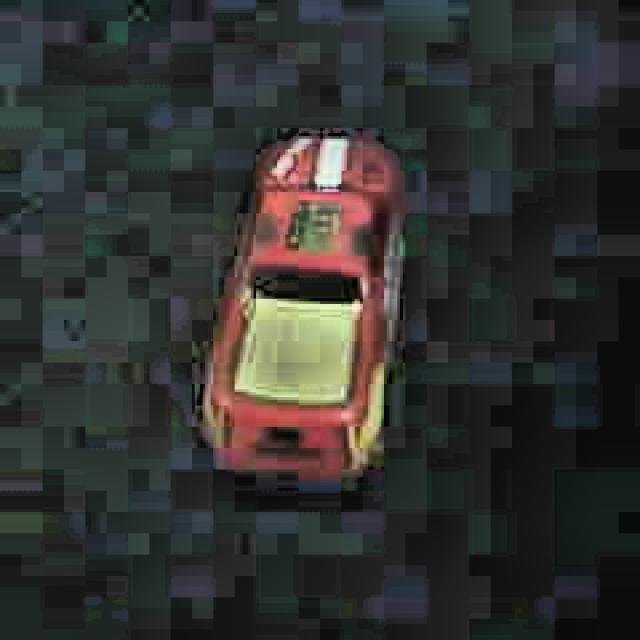car: (200, 130, 410, 486)
